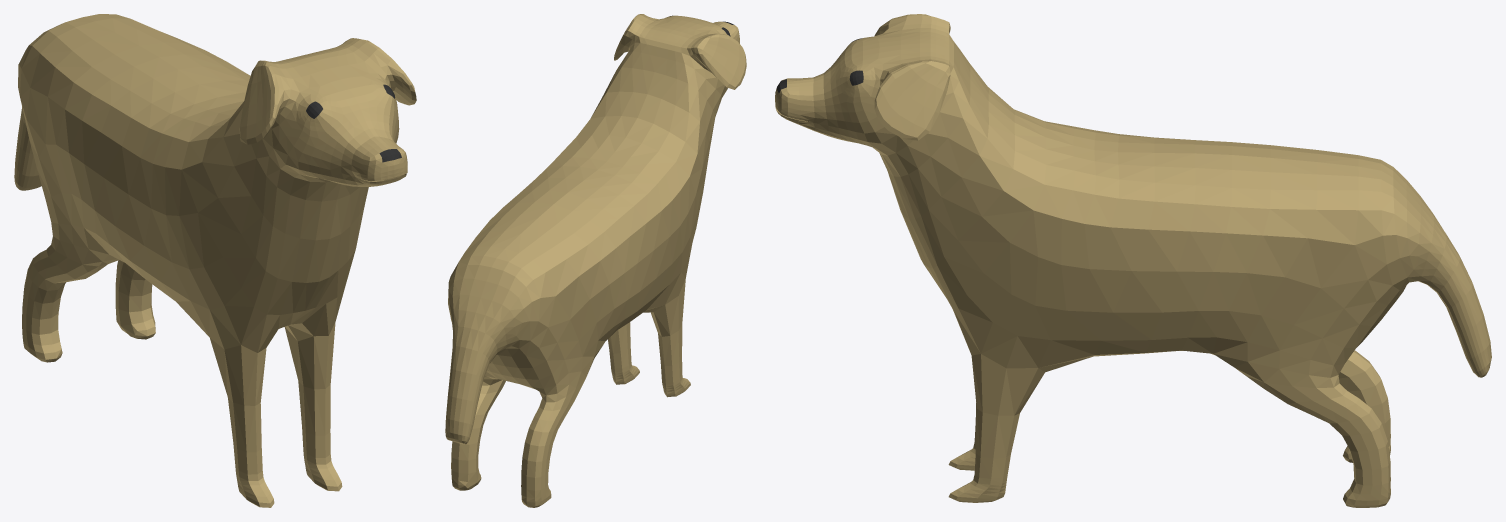
Rendered from Dog.fbx.
3 renders of one model, left to right at view 1: azimuth 30°, elevation 25°; view 2: azimuth 150°, elevation 25°; view 3: azimuth 270°, elevation 25°, orthographic. The views are drawn at different scales.
Parts seen in each view (by area): view 1: Dog; view 2: Dog; view 3: Dog.
Part boxes in pixels (x1,y1,x2,y2): Dog: (14,14,416,507); Dog: (445,14,746,507); Dog: (775,14,1491,507).
Size of the model in its own units: 41.64 by 108 by 158.
